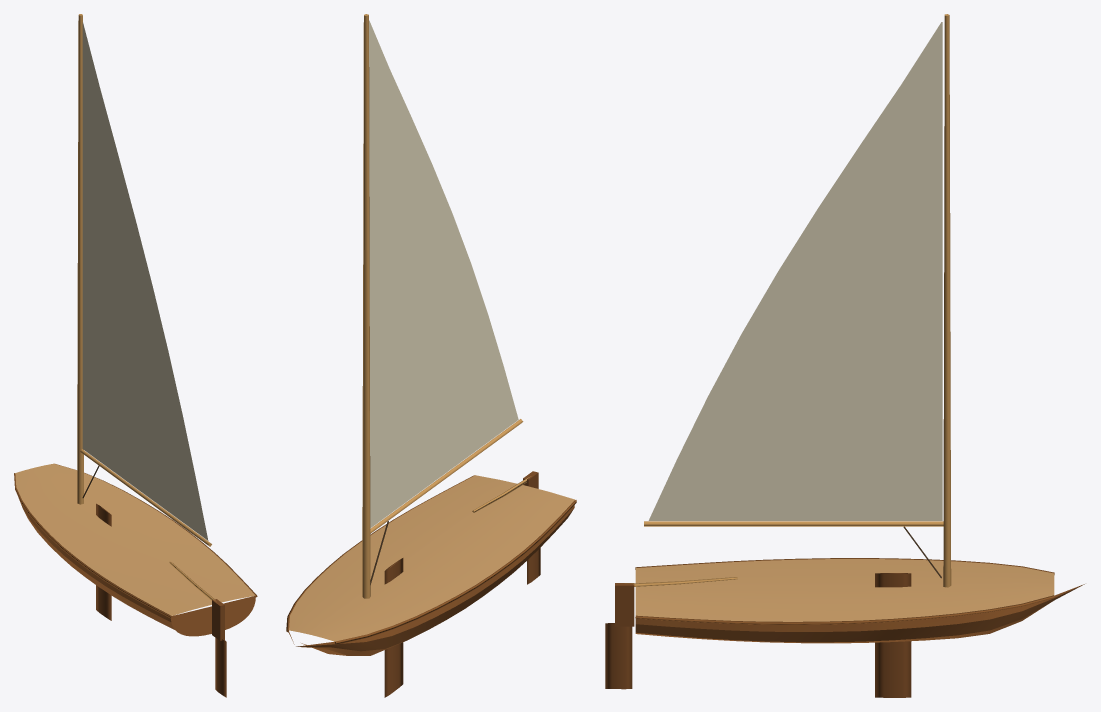
The model's file is jolly-boat.far.glb.
The picture shows the model from 3 angles, left to right: view 1: azimuth 30°, elevation 25°; view 2: azimuth 150°, elevation 25°; view 3: azimuth 270°, elevation 25°; orthographic projection. The views are drawn at different scales.
Visible parts, largest first — view 1: sail, hull, mast, rudder, boom, daggerboard; view 2: sail, hull, mast, daggerboard, boom, rudder; view 3: sail, hull, mast, rudder, daggerboard, boom.
Part boxes in pixels (bbox=[...]): sail: bbox=[82, 22, 208, 540]; hull: bbox=[14, 463, 257, 636]; mast: bbox=[77, 14, 83, 504]; rudder: bbox=[212, 599, 226, 697]; boom: bbox=[80, 449, 211, 546]; daggerboard: bbox=[96, 503, 111, 620]; sail: bbox=[369, 20, 518, 527]; hull: bbox=[286, 475, 576, 655]; mast: bbox=[362, 14, 370, 598]; daggerboard: bbox=[384, 558, 403, 697]; boom: bbox=[370, 419, 523, 533]; rudder: bbox=[523, 471, 540, 584]; sail: bbox=[648, 22, 942, 520]; hull: bbox=[635, 558, 1084, 643]; mast: bbox=[943, 14, 951, 587]; rudder: bbox=[605, 583, 634, 689]; daggerboard: bbox=[875, 573, 911, 697]; boom: bbox=[644, 521, 943, 526].
Size of the model in its own units: 1.42 by 7.01 by 4.48.
